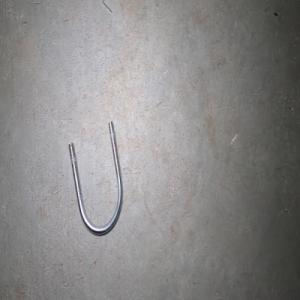ClampPart: (68, 120, 123, 236)
